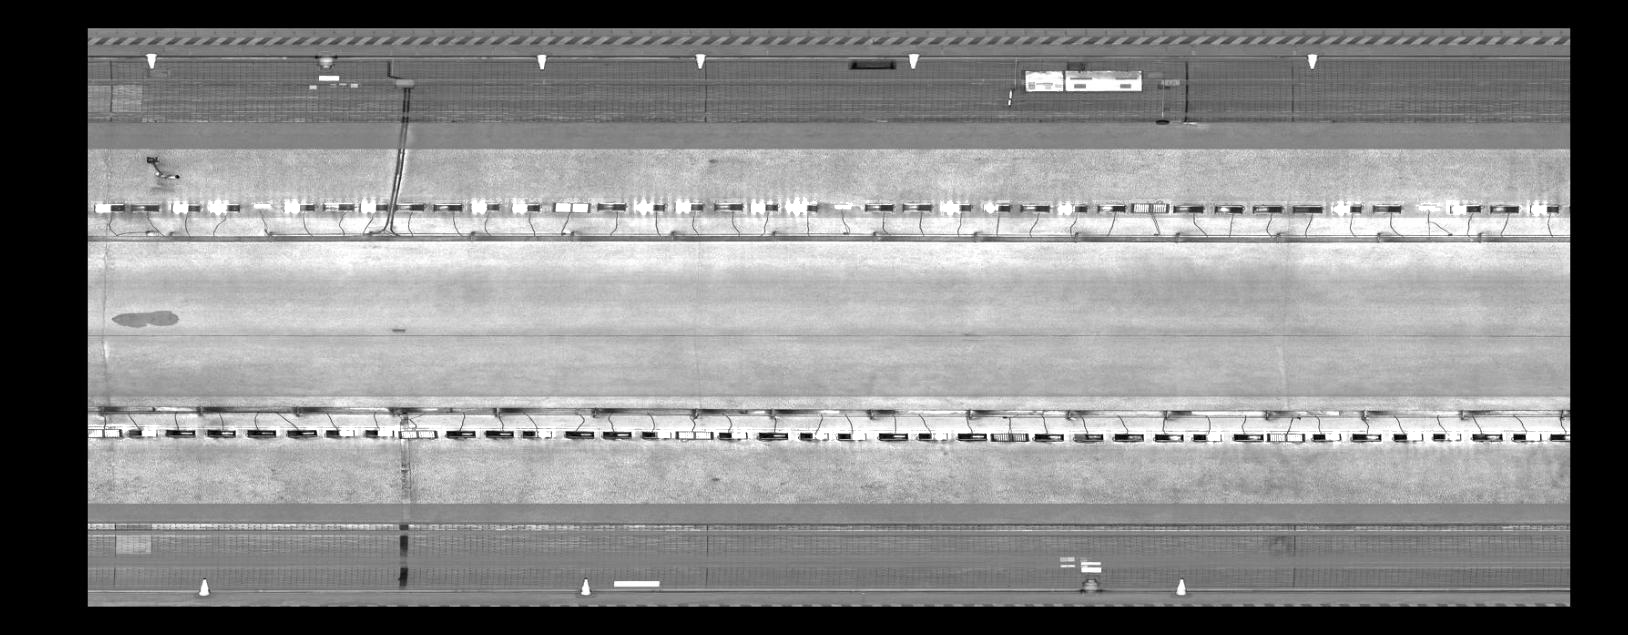light: (395, 425, 441, 441), (550, 198, 594, 215), (1264, 429, 1307, 444), (986, 429, 1032, 443), (1129, 199, 1171, 215), (785, 197, 821, 215), (673, 427, 716, 442), (505, 198, 542, 215), (634, 197, 669, 215), (88, 424, 125, 441), (466, 198, 501, 215), (1308, 429, 1346, 444), (1510, 429, 1547, 444), (1071, 429, 1106, 445), (356, 197, 392, 213), (710, 198, 747, 214), (1188, 429, 1224, 444), (1469, 429, 1505, 444), (1446, 200, 1485, 215), (594, 198, 629, 214), (1111, 429, 1146, 444), (1230, 429, 1266, 444), (747, 199, 781, 215), (1349, 429, 1383, 444), (206, 200, 242, 215), (755, 427, 791, 442), (1389, 429, 1426, 443), (1169, 201, 1208, 215), (1209, 201, 1247, 215), (123, 425, 161, 439), (913, 429, 951, 442), (1527, 200, 1561, 216), (796, 427, 832, 442), (1429, 429, 1464, 443), (281, 199, 319, 213), (319, 198, 356, 212), (1250, 201, 1287, 215), (1288, 201, 1326, 215), (1328, 201, 1365, 215), (1152, 429, 1185, 444), (940, 200, 974, 215), (1093, 200, 1128, 215), (833, 429, 869, 442), (954, 429, 991, 442), (673, 199, 706, 214), (242, 426, 280, 439), (1031, 430, 1069, 442), (861, 200, 896, 214), (1055, 201, 1090, 215), (1368, 201, 1404, 215), (716, 427, 752, 441), (875, 429, 911, 442), (125, 201, 162, 214), (161, 426, 198, 439), (442, 427, 480, 440), (481, 427, 518, 440), (519, 427, 557, 440), (562, 427, 599, 440), (900, 200, 934, 214), (167, 201, 203, 214), (91, 201, 127, 214), (430, 200, 465, 213), (1017, 201, 1053, 214), (323, 426, 358, 439), (600, 427, 635, 440), (639, 427, 674, 440), (980, 200, 1012, 214), (1488, 202, 1522, 215), (203, 426, 238, 439), (284, 426, 319, 439), (361, 426, 396, 439), (392, 201, 429, 213), (1548, 429, 1570, 441), (1415, 202, 1440, 212), (248, 200, 273, 208), (831, 202, 854, 210)
